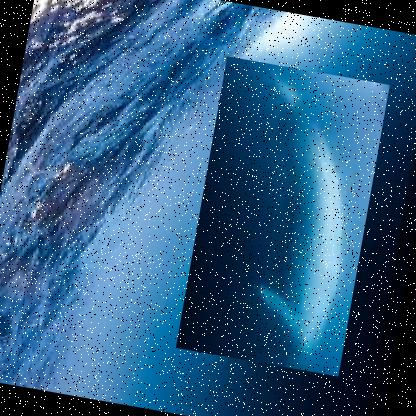blue_whale: (176, 55, 390, 376)
